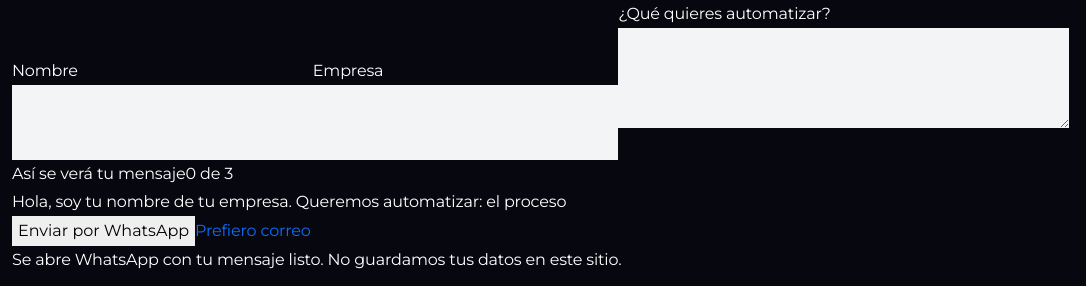
Test: LeadForm: la vista previa refleja lo escrito y marca cuando está completo
The image size is (1086, 286).
Expected: the element with test id "lead-preview" shows "0 de 3", x1=12 y1=164 x2=566 y2=211
Expected: the element with test id "lead-preview" shows "Hola, soy tu nombre de tu empresa.", x1=12 y1=164 x2=566 y2=211
Step 1. Type "Ana" into the field labelled "Nombre" → (162, 122), box x1=12 y1=85 x2=313 y2=160
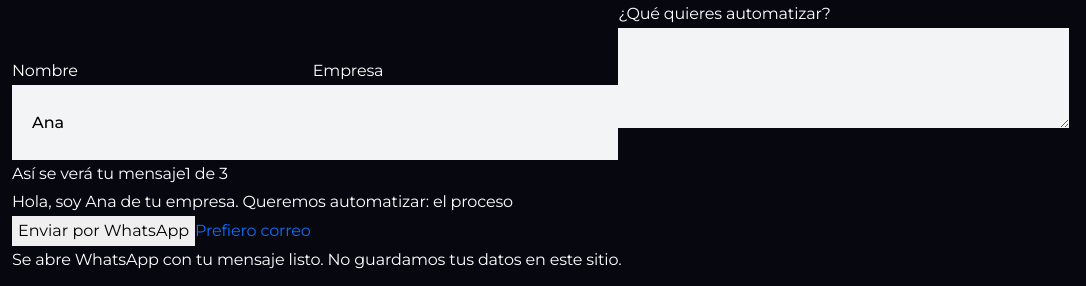
Step 2. Type "Acme" into the field labelled "Empresa" → (466, 122), box x1=313 y1=85 x2=618 y2=160
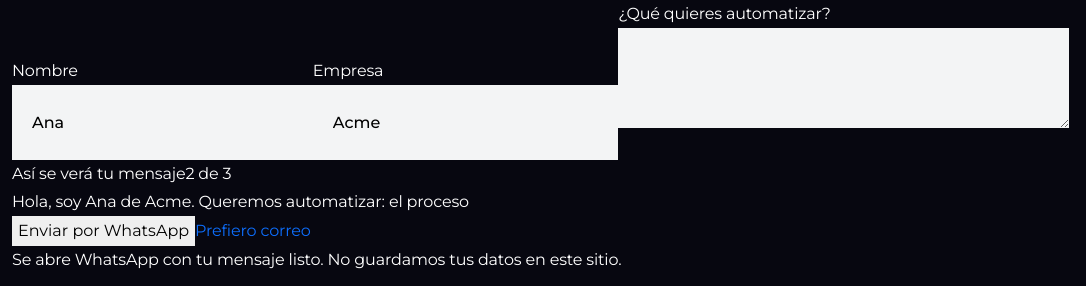
Step 3. Type "cobranza" into the text box labelled "¿Qué quieres automatizar?" → (844, 78), box x1=618 y1=28 x2=1069 y2=128
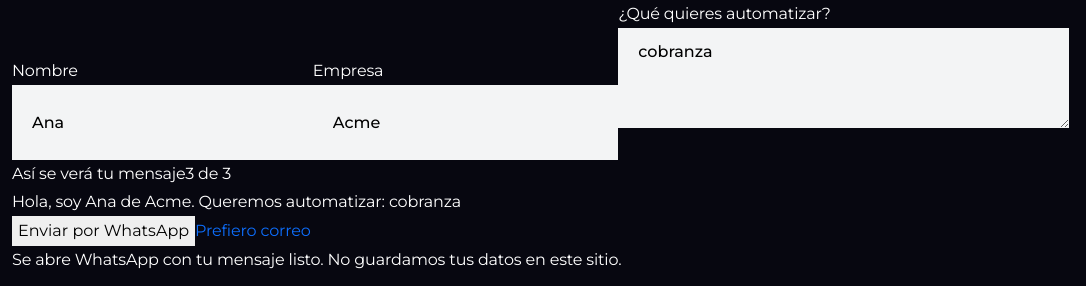
Expected: the element with test id "lead-preview" shows "3 de 3", x1=12 y1=164 x2=461 y2=211
Expected: the element with test id "lead-preview" shows "Hola, soy Ana de Acme. Queremos automatizar: cobranza", x1=12 y1=164 x2=461 y2=211
